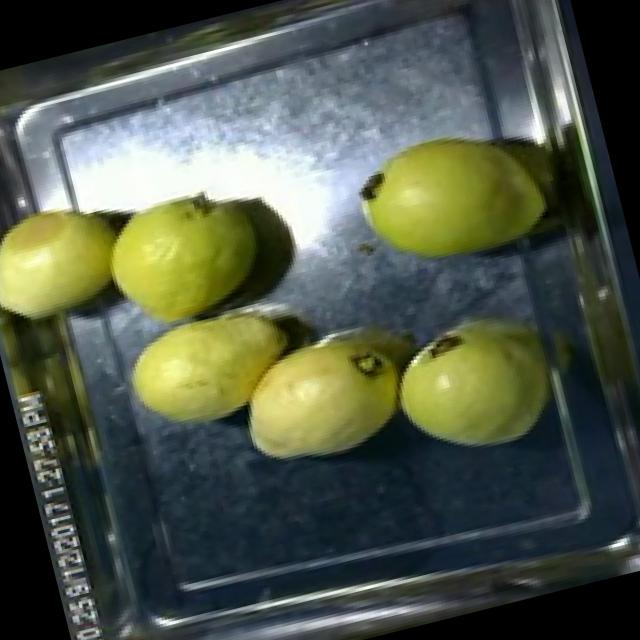Fruit: (334, 102, 570, 297), (214, 298, 442, 486), (80, 162, 290, 344), (372, 290, 569, 473), (105, 284, 318, 448), (0, 176, 149, 348)
